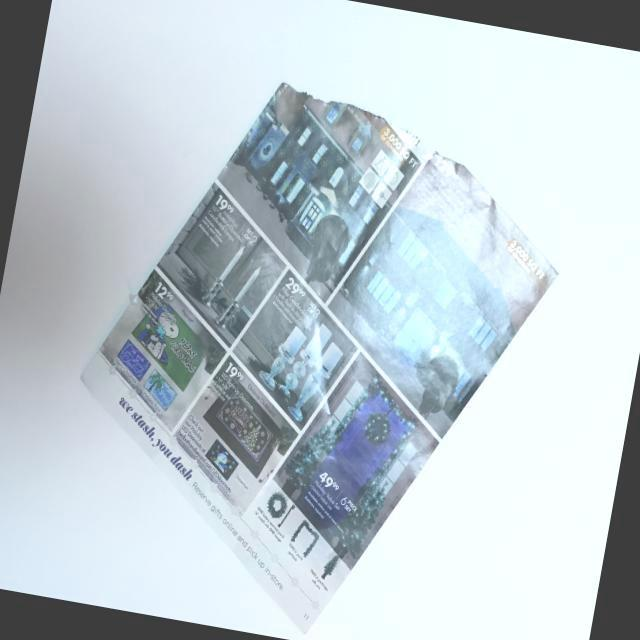paper: (38, 39, 598, 640)
